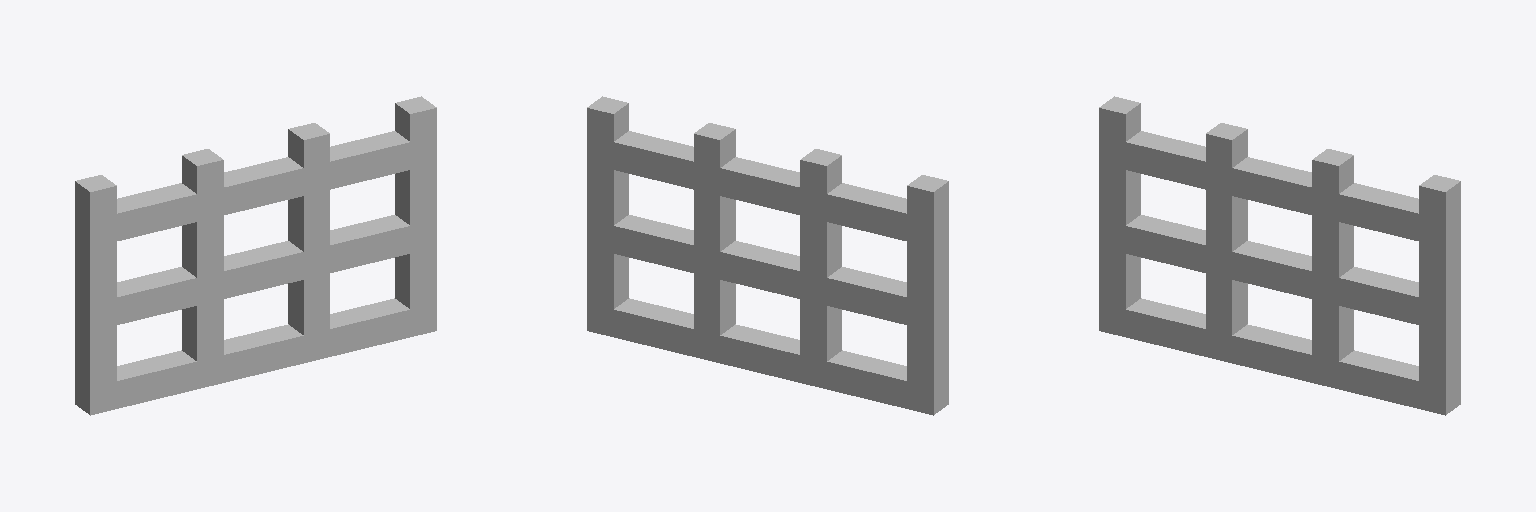
The model's file is corrimao DE.obj.
3 renders of one model, left to right at view 1: azimuth 30°, elevation 25°; view 2: azimuth 150°, elevation 25°; view 3: azimuth 330°, elevation 25°, orthographic.
Visible parts, largest first — view 1: object 1; view 2: object 1; view 3: object 1.
Boxes of the visible parts, x1,y1,x2,y2 form: object 1: [75, 96, 436, 415]; object 1: [587, 96, 948, 415]; object 1: [1099, 96, 1460, 415].
Size of the model in its own units: 1.3 by 0.8 by 0.1.